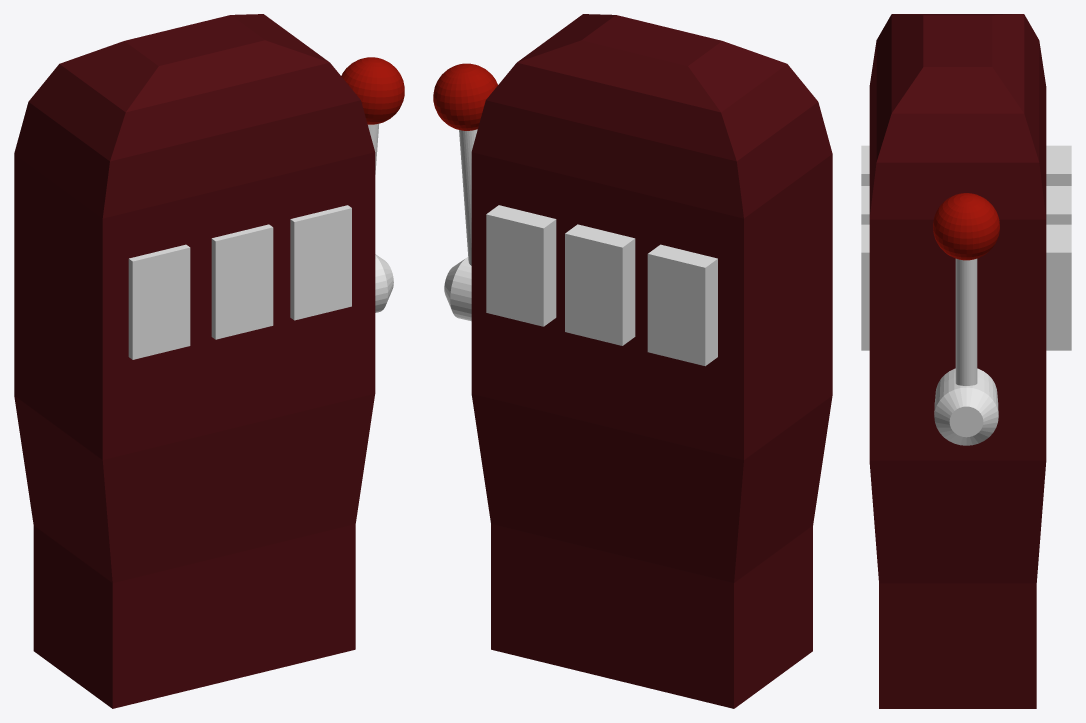
Rendered from MaquinaCasino.fbx.
3 views of the same model, side by side, from view 1: azimuth 30°, elevation 25°; view 2: azimuth 150°, elevation 25°; view 3: azimuth 270°, elevation 25° (orthographic).
Visible parts, largest first — view 1: Plane, Cube.002, Cube.001, Cube.003; view 2: Plane, Cube.001, Cube.002, Cube.003; view 3: Plane, Cube.003, Cube.001, Cube.002.
Boxes of the visible parts, x1,y1,x2,y2 form: Plane: [14, 14, 404, 708]; Cube.002: [211, 224, 273, 339]; Cube.001: [128, 244, 190, 359]; Cube.003: [290, 205, 351, 320]; Plane: [433, 14, 832, 708]; Cube.001: [647, 244, 717, 366]; Cube.002: [565, 224, 635, 345]; Cube.003: [486, 205, 556, 326]; Plane: [869, 14, 1046, 708]; Cube.003: [861, 224, 1071, 350]; Cube.001: [861, 145, 1071, 185]; Cube.002: [861, 186, 1071, 224].
Size of the model in its own units: 820 by 1380 by 432.
